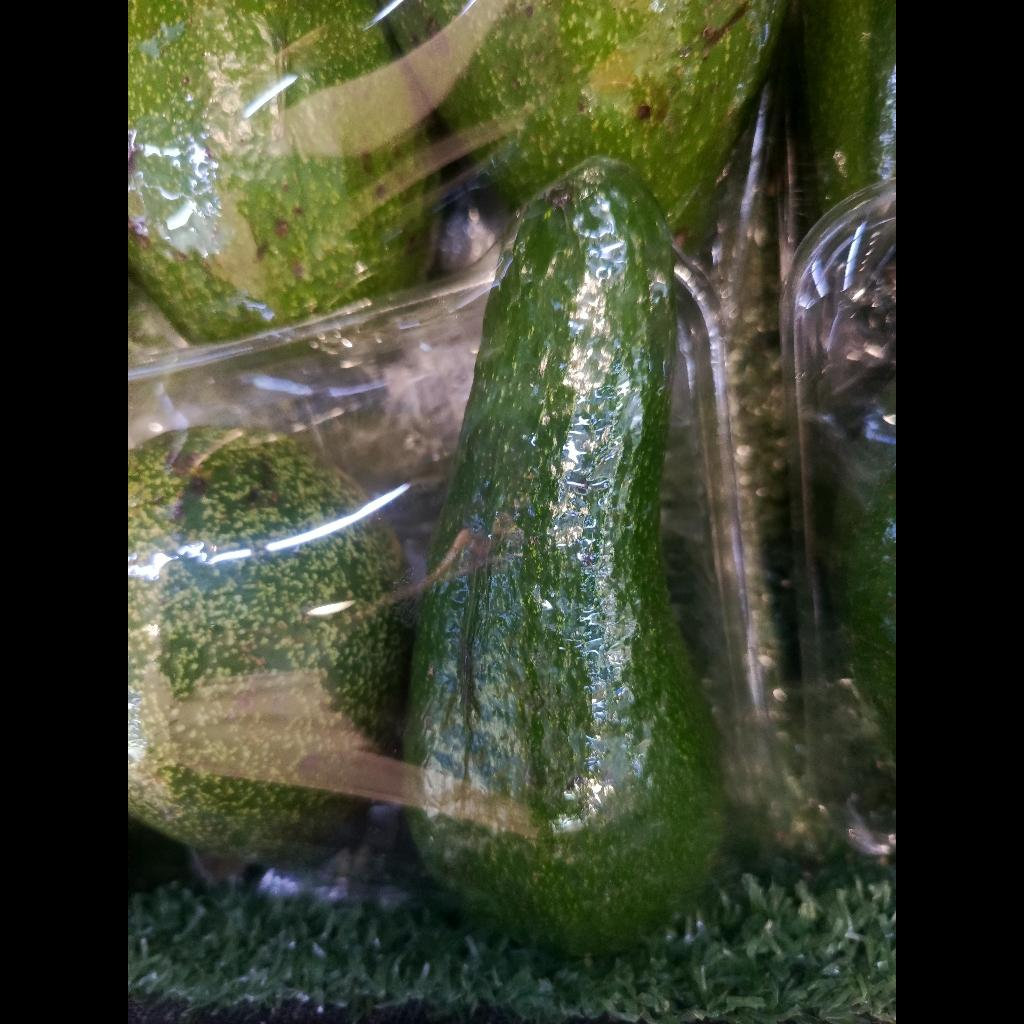fruto_sano: (405, 158, 724, 954)
